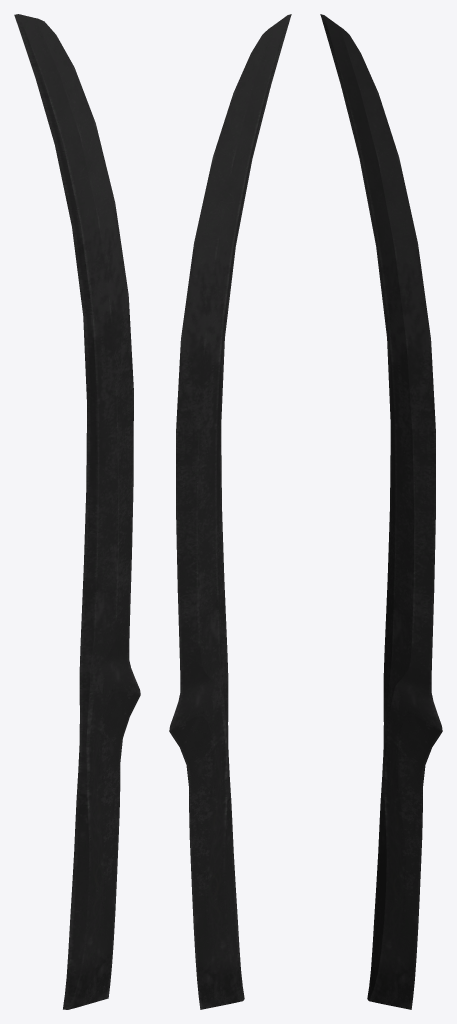
Rendered from wm_rivendell_sword_a02_black_blade.fbx.
3 views of the same model, side by side, from view 1: azimuth 30°, elevation 25°; view 2: azimuth 210°, elevation 25°; view 3: azimuth 330°, elevation 25° (orthographic). The views are drawn at different scales.
Parts seen in each view (by area): view 1: wm_rivendell_sword_a02_black_blade; view 2: wm_rivendell_sword_a02_black_blade; view 3: wm_rivendell_sword_a02_black_blade.
Part boxes in pixels (box(x1,y1,x2,y2)): wm_rivendell_sword_a02_black_blade: box(14, 14, 140, 1009); wm_rivendell_sword_a02_black_blade: box(169, 14, 291, 1009); wm_rivendell_sword_a02_black_blade: box(320, 14, 442, 1009).
Bounding box in the file's own units: 0.1148 × 0.0116 × 0.8726.
1 material, 1 textured.
